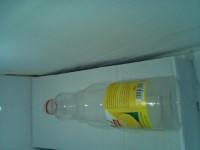bottle: (42, 73, 178, 133)
